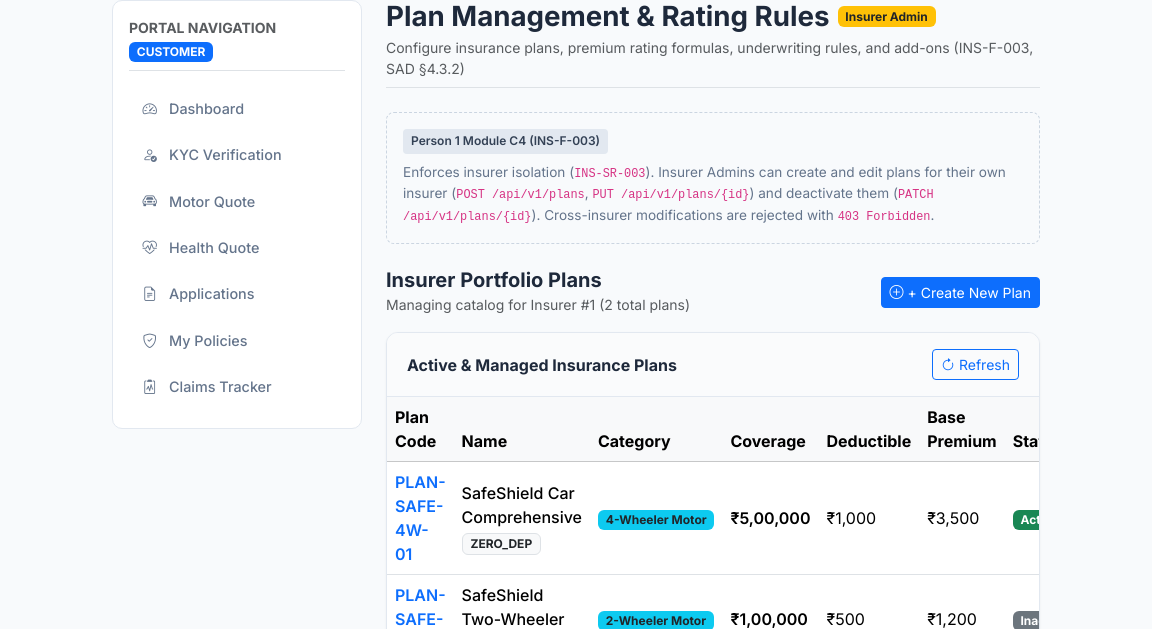
Test: InsurerAdminPlansView (INS-F-003, INS-SR-003, TC-Plan-01) › TC-Plan-01 Step 1: creates a new plan via POST /plans
The image size is (1152, 629).
Expected: the text "PLAN-SAFE-4W-01" is shown, [387,462,454,575]
Open create form
Click the button "+ Create New Plan" at (960, 292), box [880,277,1040,308]
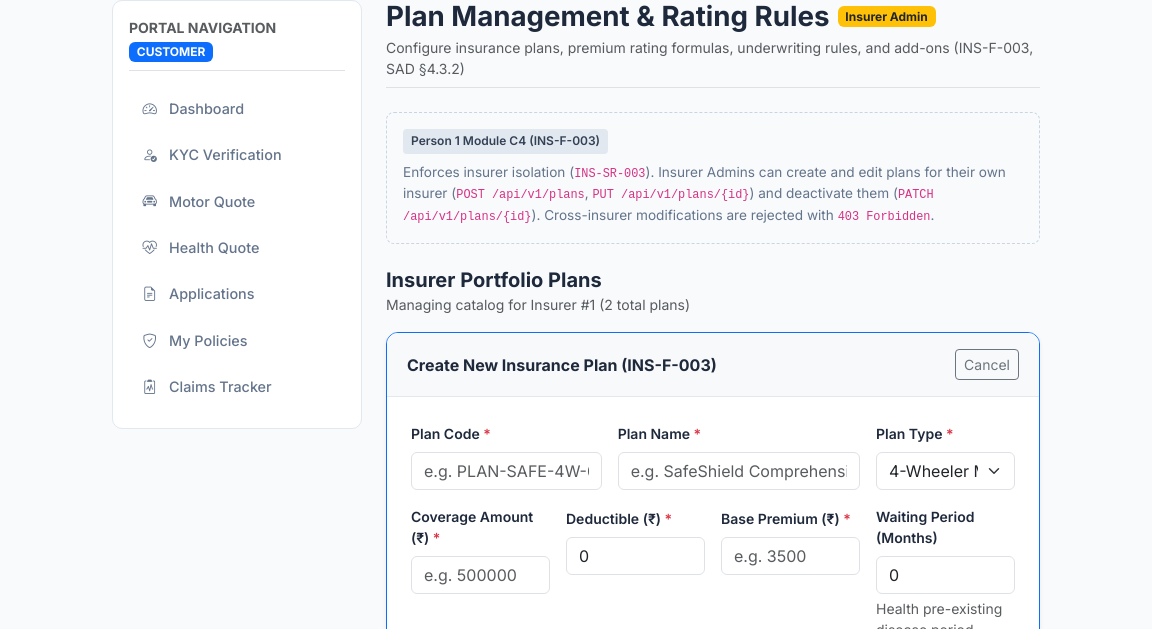
Fill fields
Type "PLAN-SAFE-4W-02" into the field labelled "Plan Code *" at (506, 471), box [411,452,602,490]
Type "SafeShield Platinum 4W" into the field labelled "Plan Name *" at (739, 471), box [618,452,860,490]
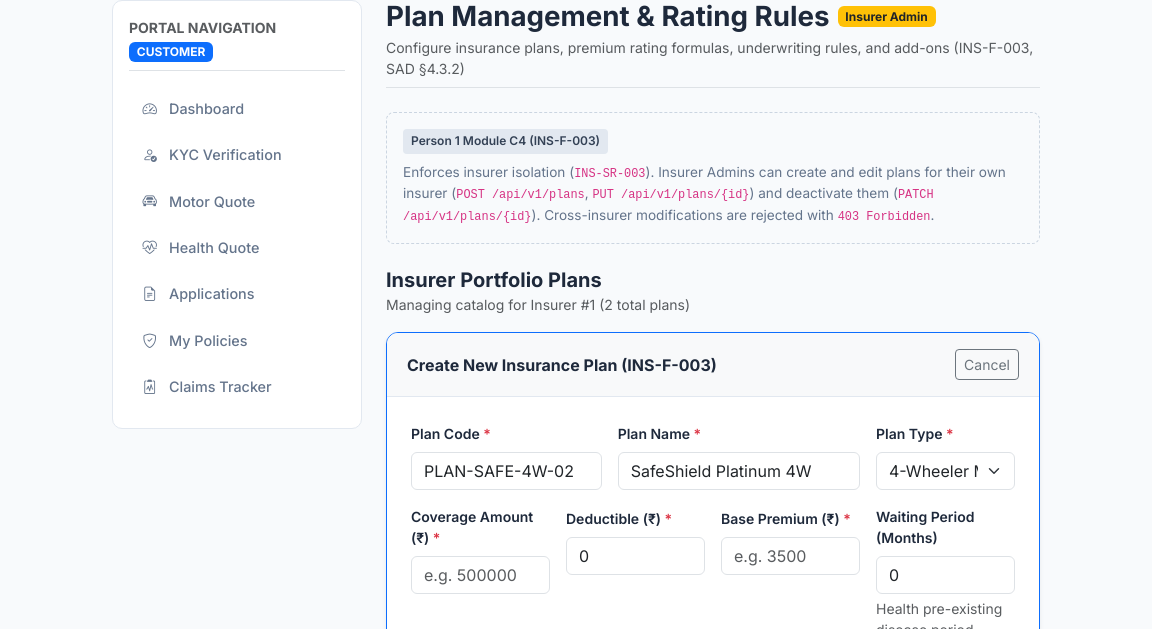
Select "4-Wheeler Motor" in the dropdown labelled "Plan Type *" at (946, 471), box [876,452,1015,490]
Type "800000" into the number field labelled "Coverage Amount (₹) *" at (480, 575), box [411,556,550,594]
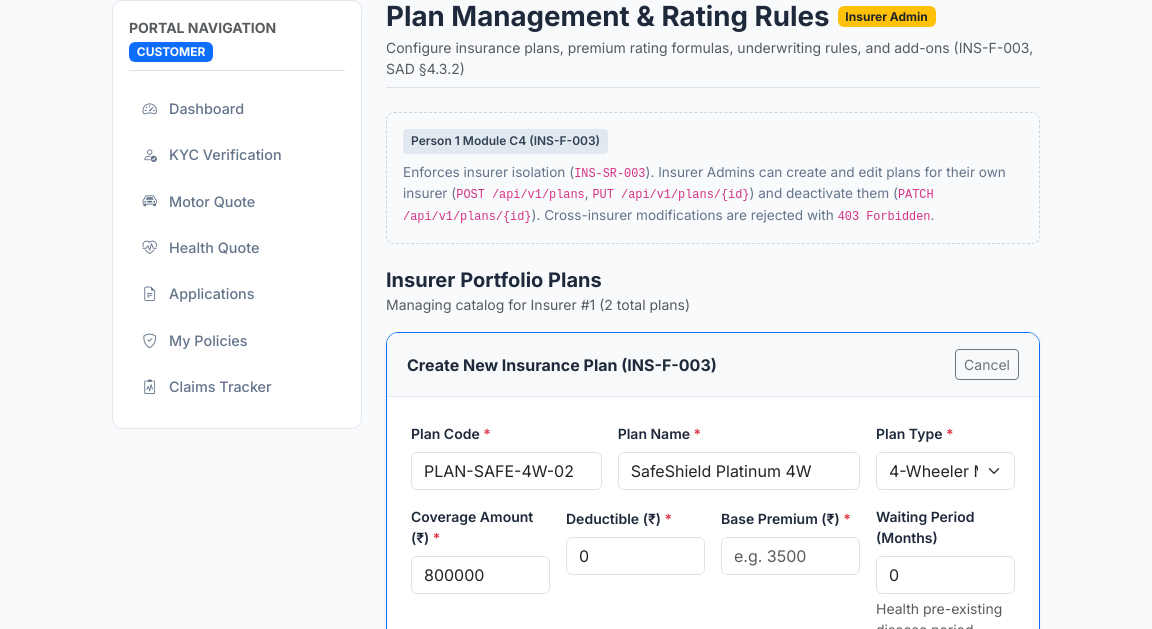
Replace the text in the number field labelled "Deductible (₹) *" with "1500" at (636, 556), box [566,537,705,575]
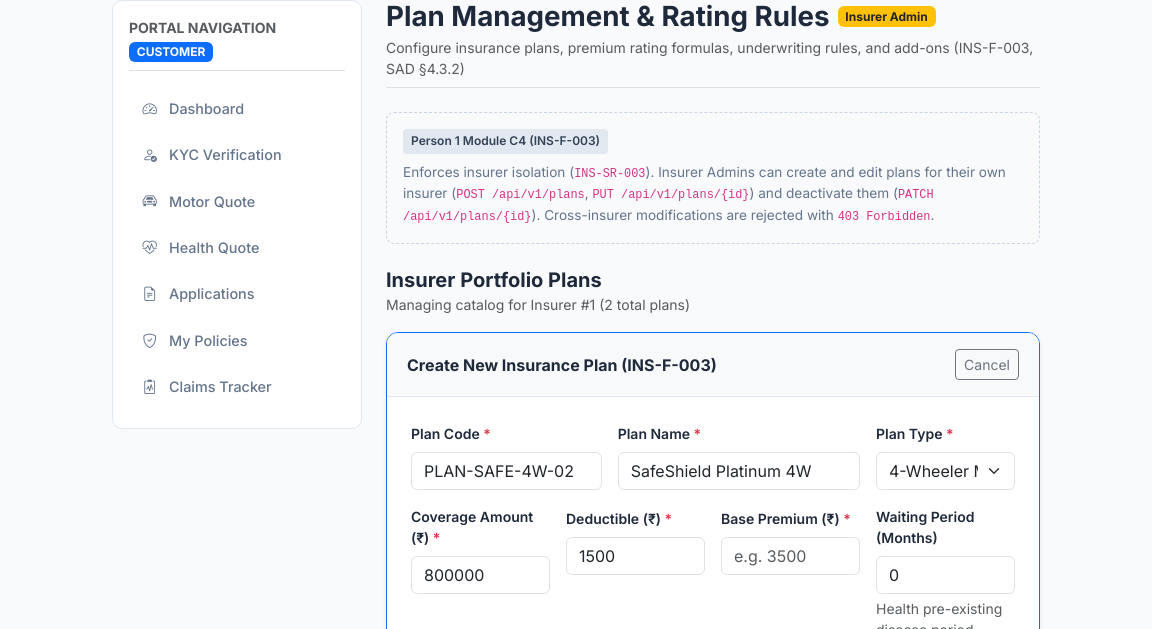
Type "4200" into the number field labelled "Base Premium (₹) *" at (790, 556), box [721,537,860,575]
(page scrolled)
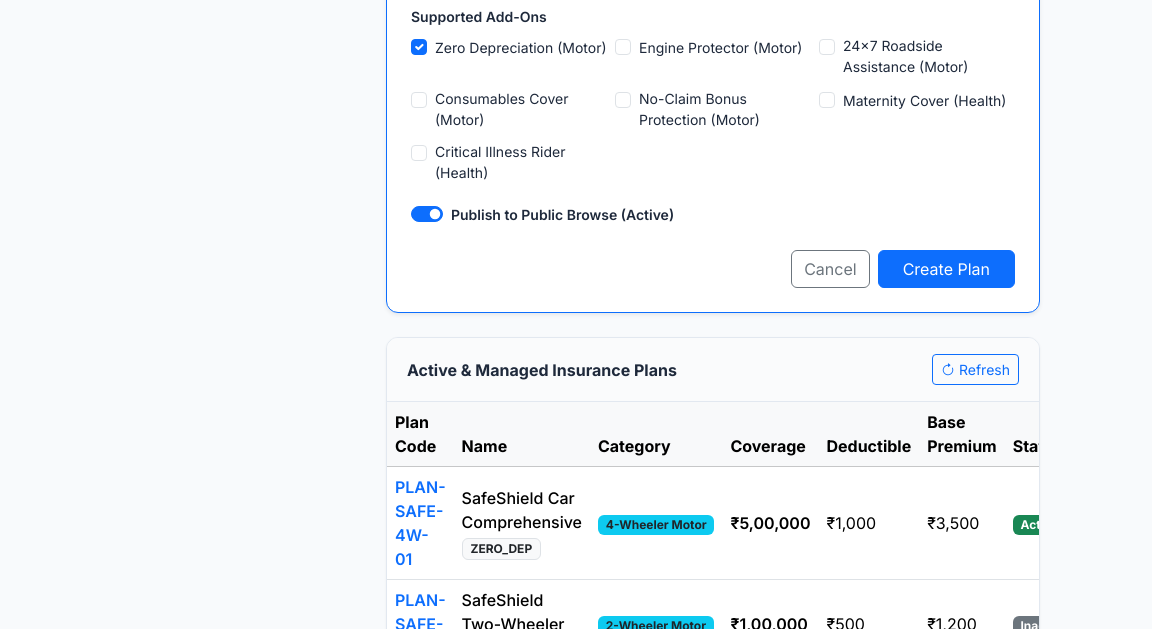
Submit form
Click the button "Create Plan" at (946, 269), box [878,250,1015,288]
(page scrolled)
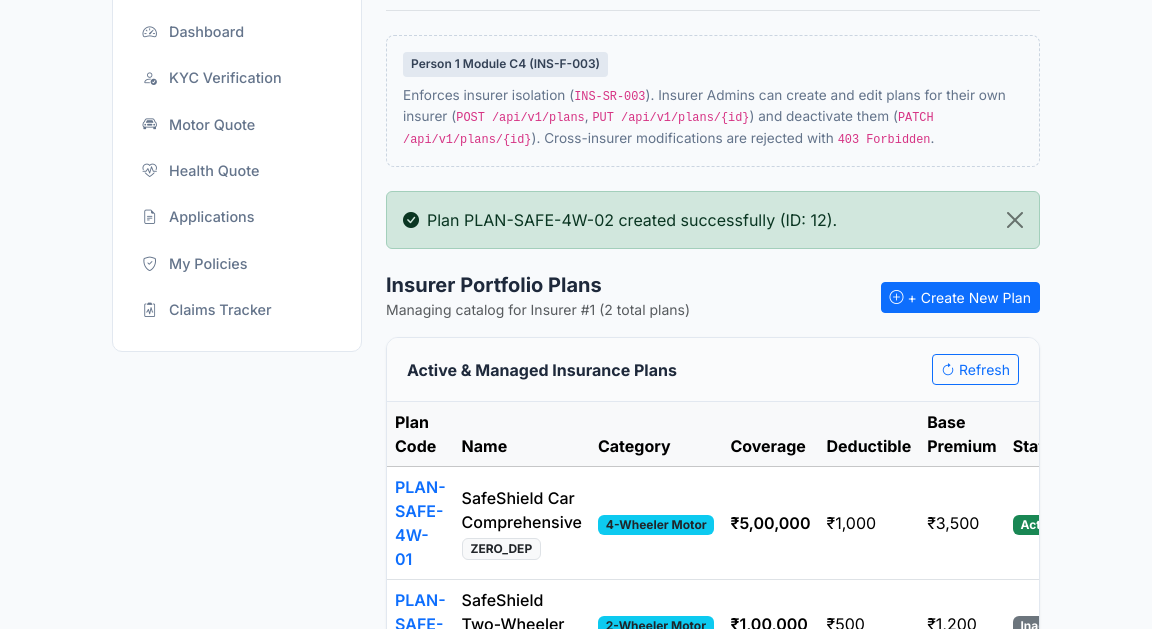
Result: the text "Plan PLAN-SAFE-4W-02 created successfully (ID: 12)." is shown at [386,191,1040,249]
